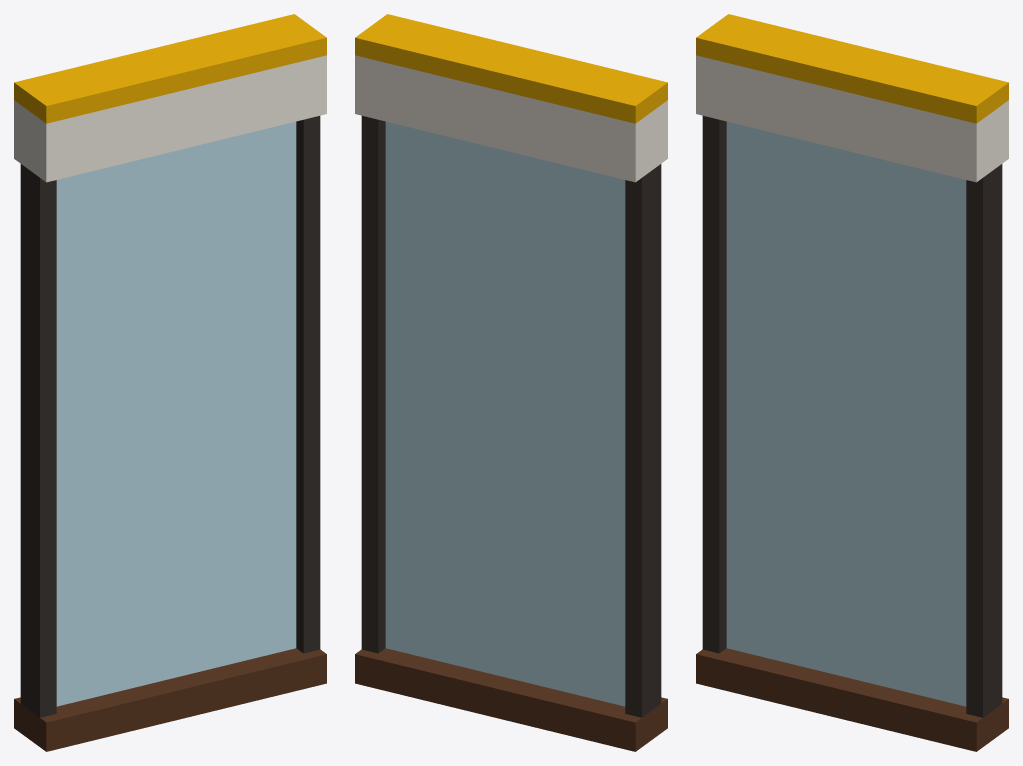
The model's file is raum_wand_fenster.glb.
3 renders of one model, left to right at view 1: azimuth 30°, elevation 25°; view 2: azimuth 150°, elevation 25°; view 3: azimuth 330°, elevation 25°, orthographic.
Parts seen in each view (by area): view 1: raum_wand_fenster; view 2: raum_wand_fenster; view 3: raum_wand_fenster.
Part boxes in pixels (x1,y1,x2,y2): raum_wand_fenster: (14, 14, 326, 751); raum_wand_fenster: (355, 14, 667, 751); raum_wand_fenster: (696, 14, 1008, 751).
Size of the model in its own units: 1 by 2.2 by 0.2.
